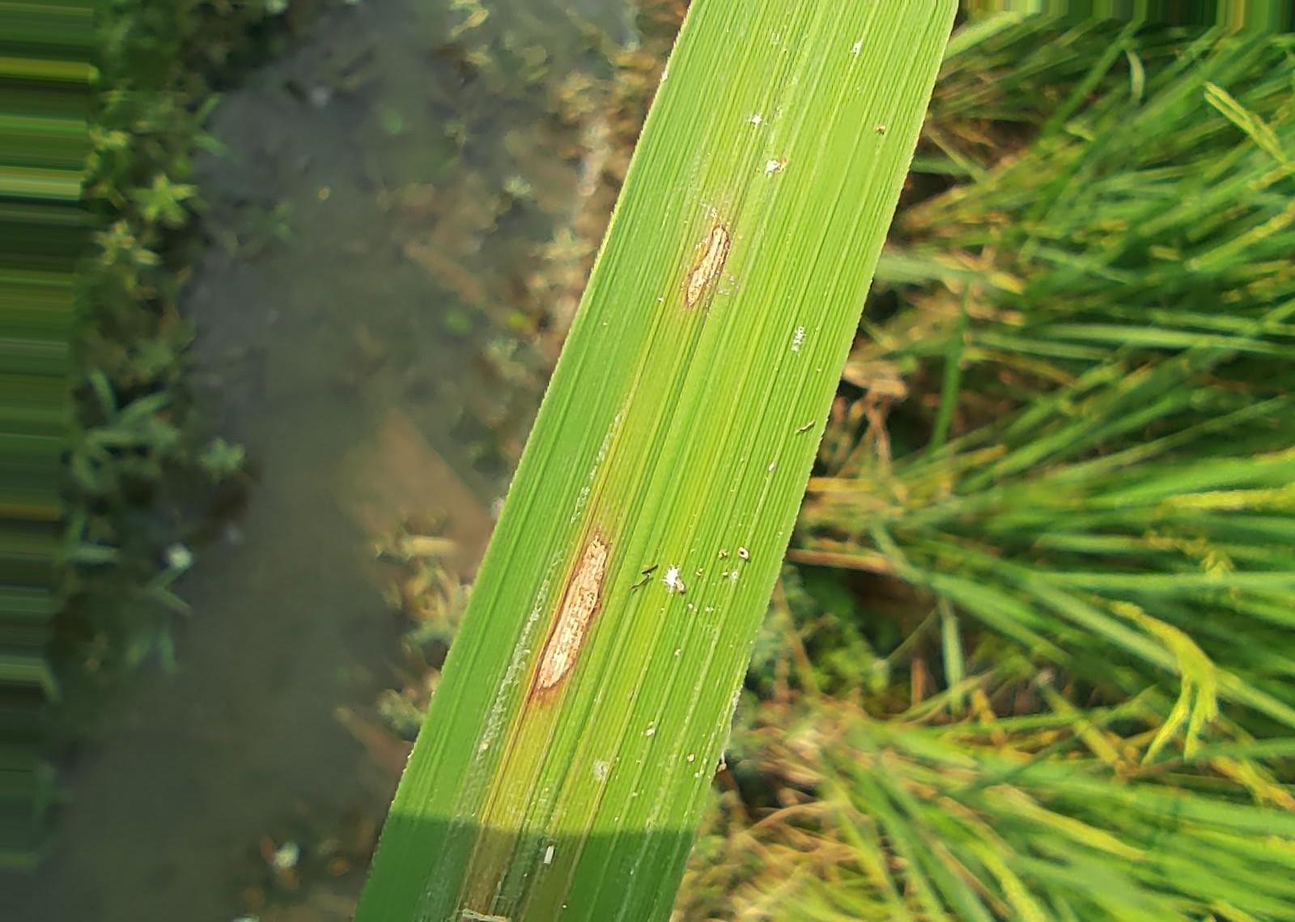LEAF: (354, 0, 956, 921)
LEAF BLAST: (535, 532, 609, 691), (685, 223, 731, 308)
